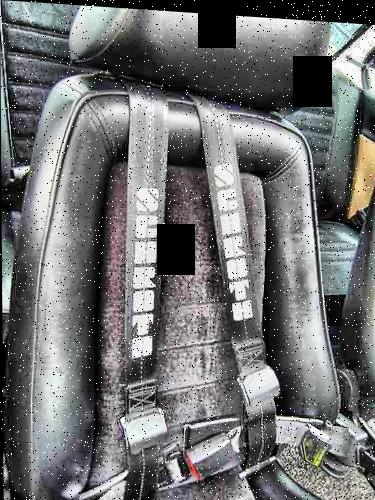seatbelt: (196, 74, 300, 479), (95, 64, 173, 470)
